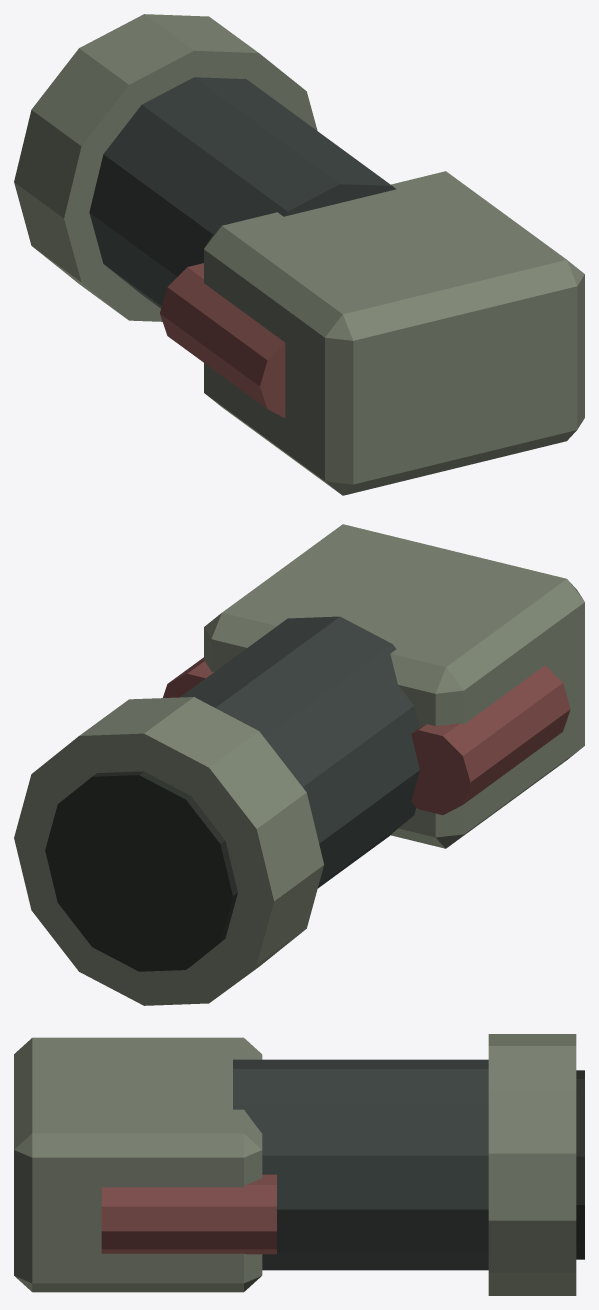
The model's file is centipede_burner_weapon.obj.
3 renders of one model, top to bottom at view 1: azimuth 30°, elevation 25°; view 2: azimuth 150°, elevation 25°; view 3: azimuth 270°, elevation 25°, orthographic. The views are drawn at different scales.
Parts seen in each view (by area): view 1: centipede_burner_weapon; view 2: centipede_burner_weapon; view 3: centipede_burner_weapon.
Part boxes in pixels (x1,y1,x2,y2): centipede_burner_weapon: [14, 14, 584, 495]; centipede_burner_weapon: [14, 524, 584, 1005]; centipede_burner_weapon: [14, 1034, 584, 1295].
Bounding box in the file's own units: 0.43 × 0.36 × 0.782.
